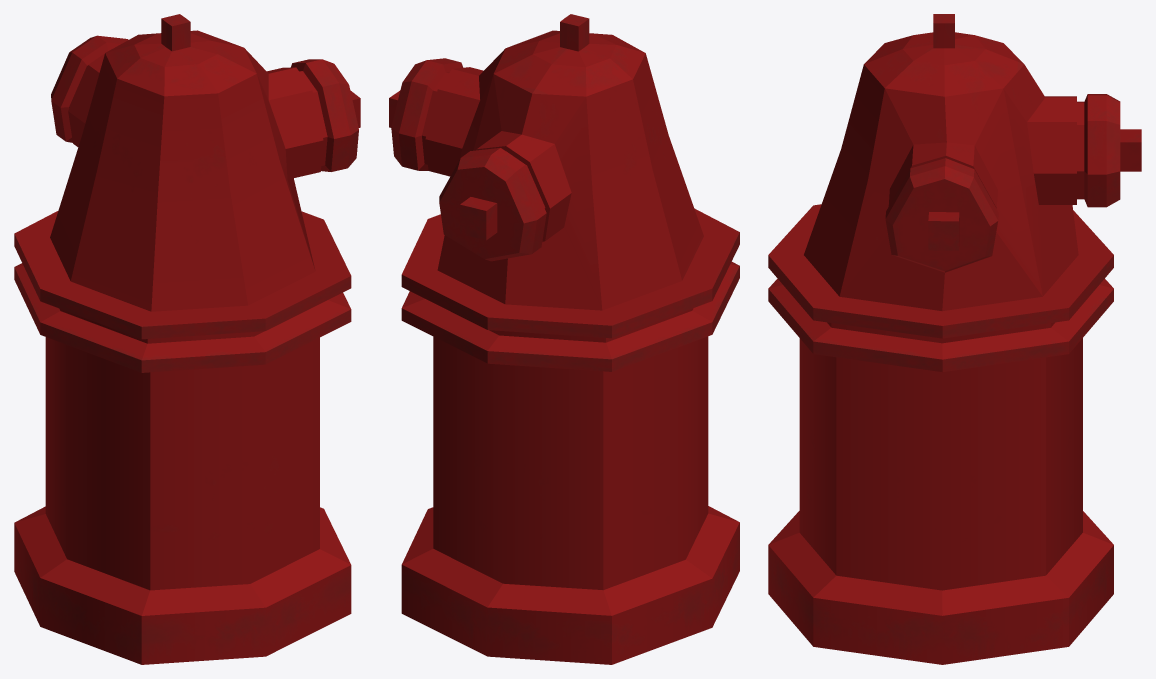
File: FireHydrant.fbx
3 views of the same model, side by side, from view 1: azimuth 30°, elevation 25°; view 2: azimuth 150°, elevation 25°; view 3: azimuth 270°, elevation 25° (orthographic).
Visible parts, largest first — view 1: pCube3; view 2: pCube3; view 3: pCube3.
Boxes of the visible parts, bbox=[...] form: pCube3: bbox=[14, 14, 360, 664]; pCube3: bbox=[389, 14, 739, 664]; pCube3: bbox=[768, 14, 1141, 664].
Size of the model in its own units: 3.64 by 6.35 by 3.74.
1 material, 1 textured.
